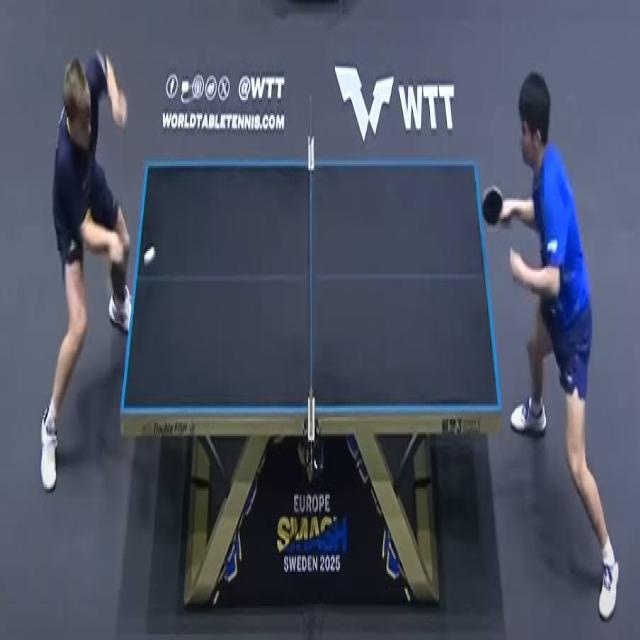TT Net: (306, 90, 316, 452)
TT Racket: (477, 172, 504, 235)
TT Table: (119, 159, 502, 418)
